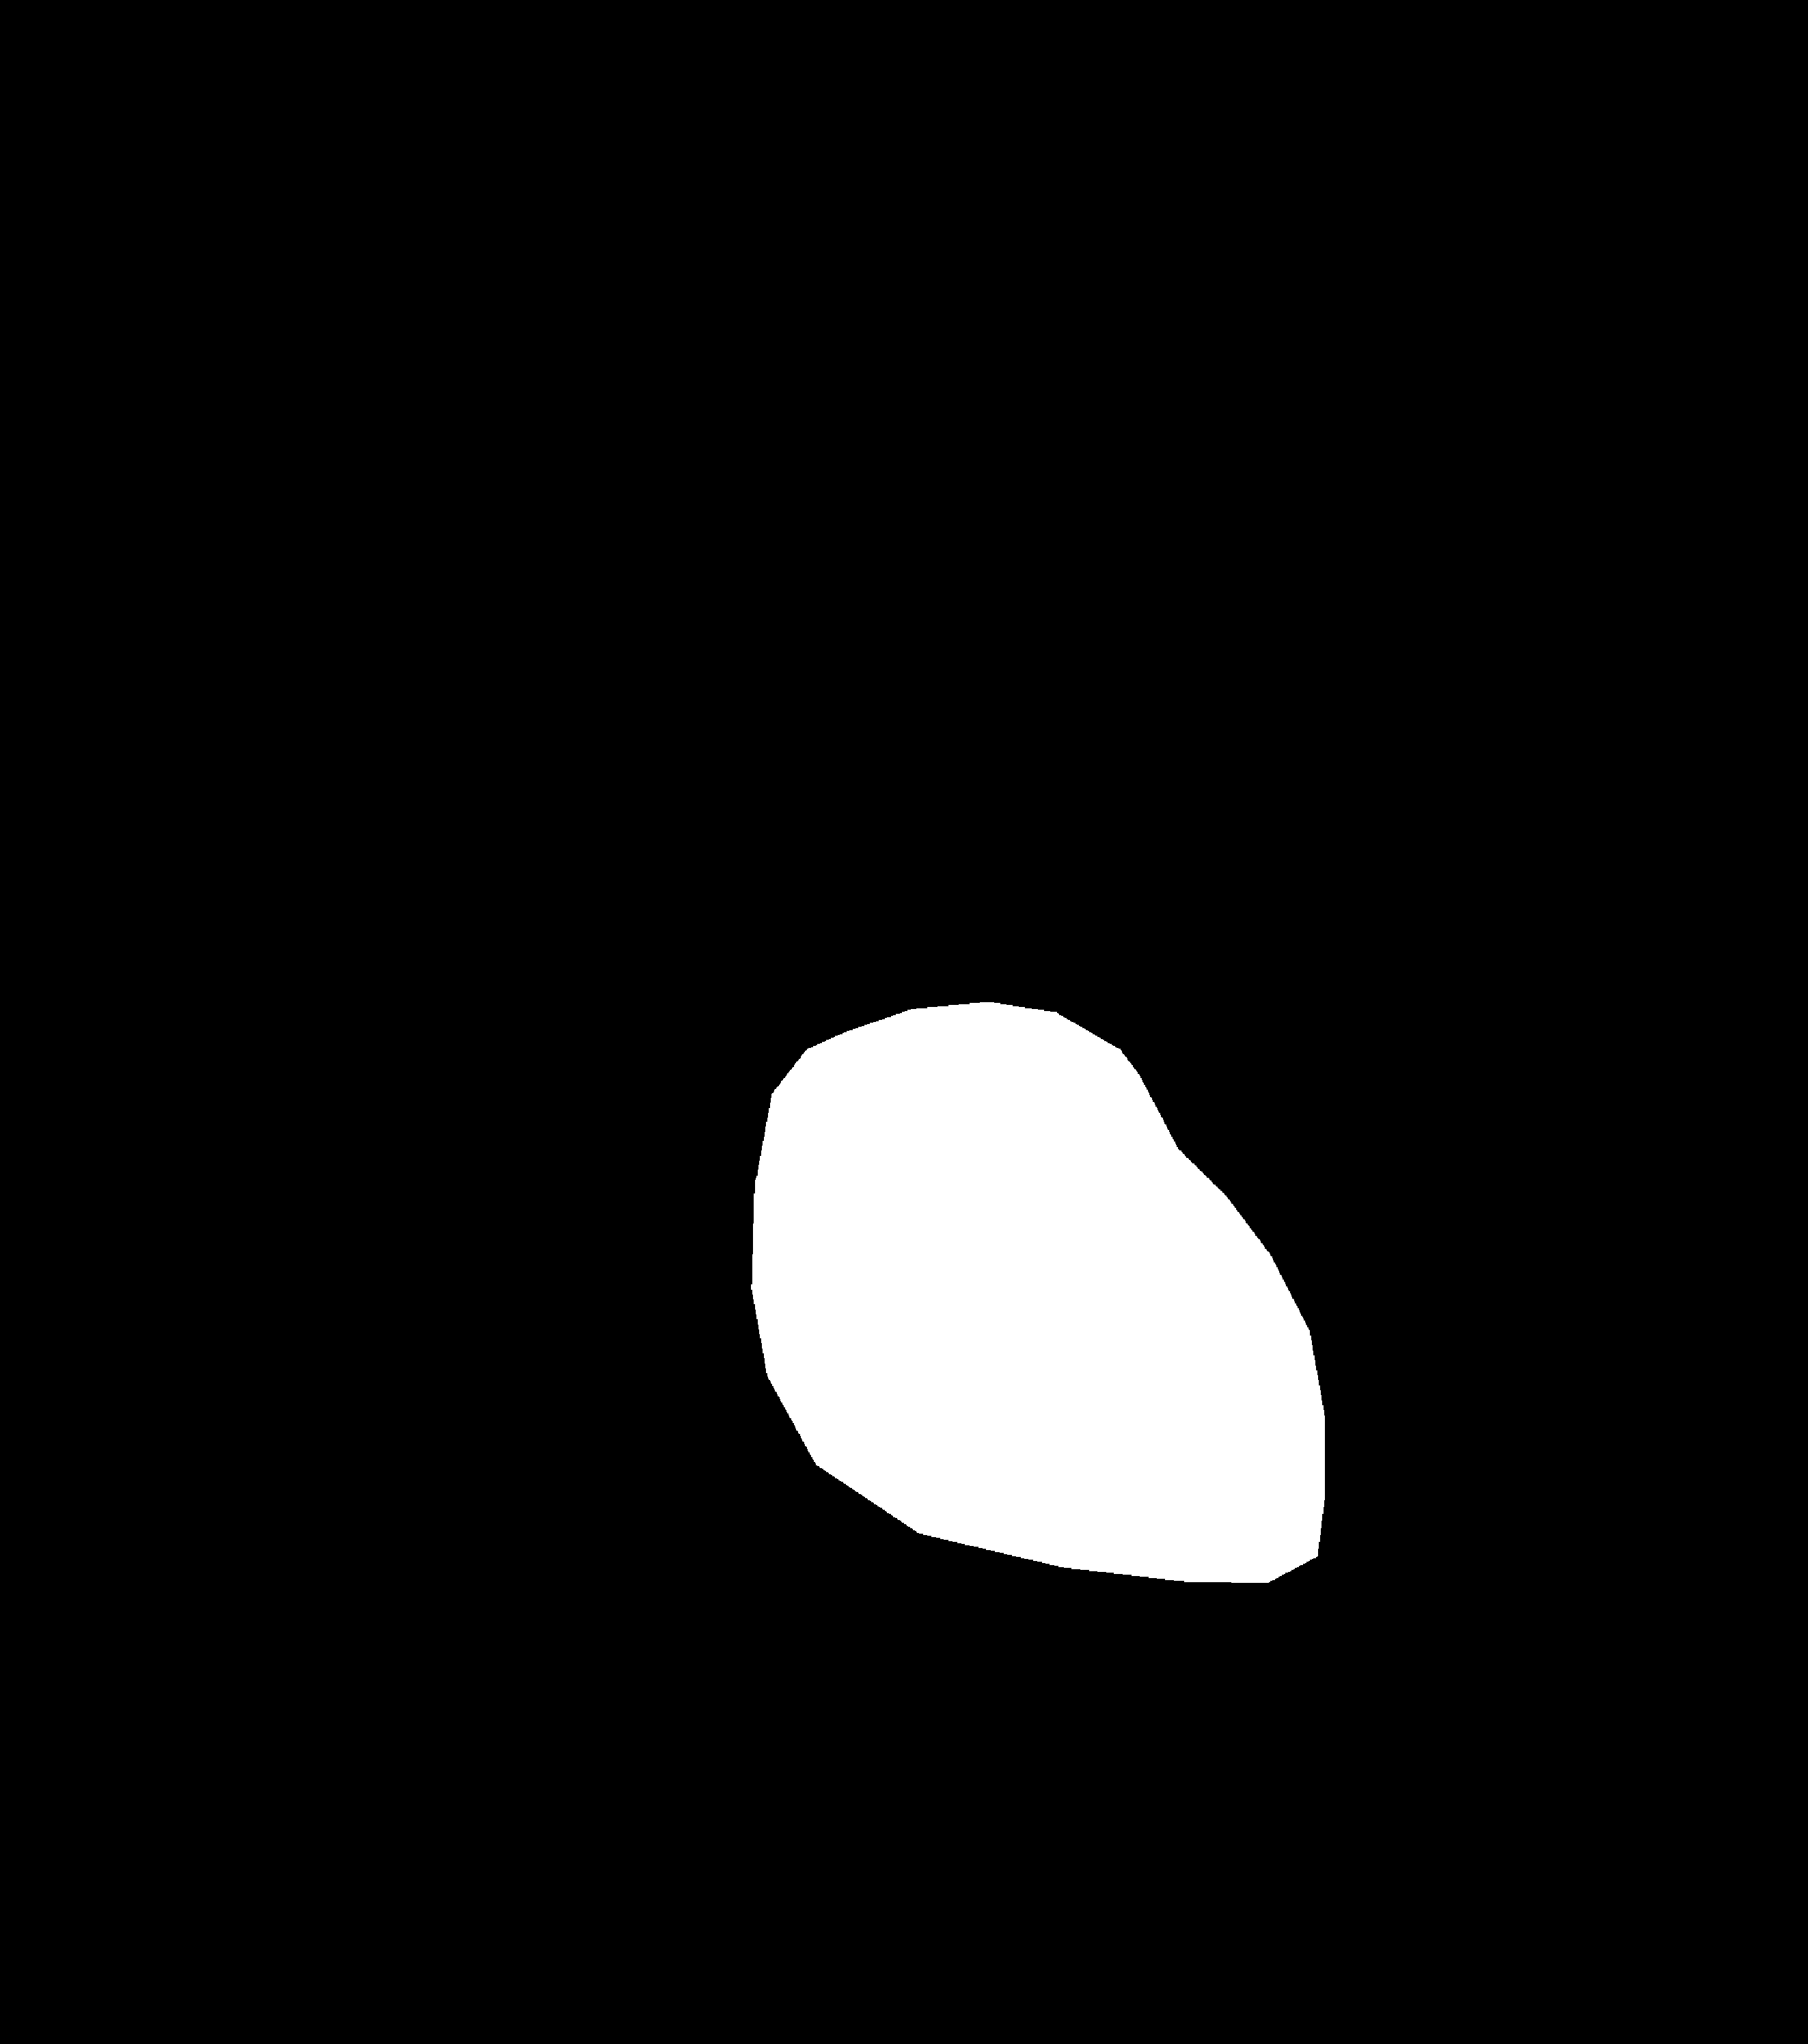heart: (747, 1064, 1328, 1634)
left_lung: (258, 366, 853, 1765)
right_lung: (1037, 366, 1632, 1884)
